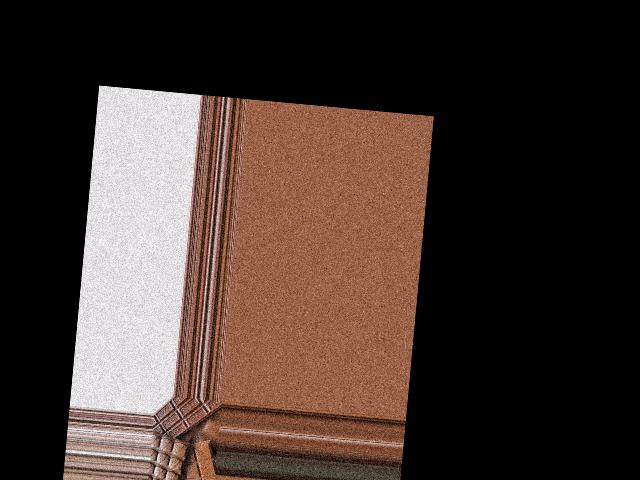chocolate: (171, 437, 215, 480)
